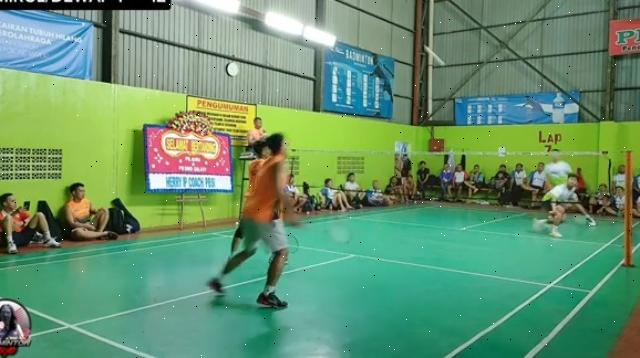Shuttlecock: (422, 42, 448, 72)
